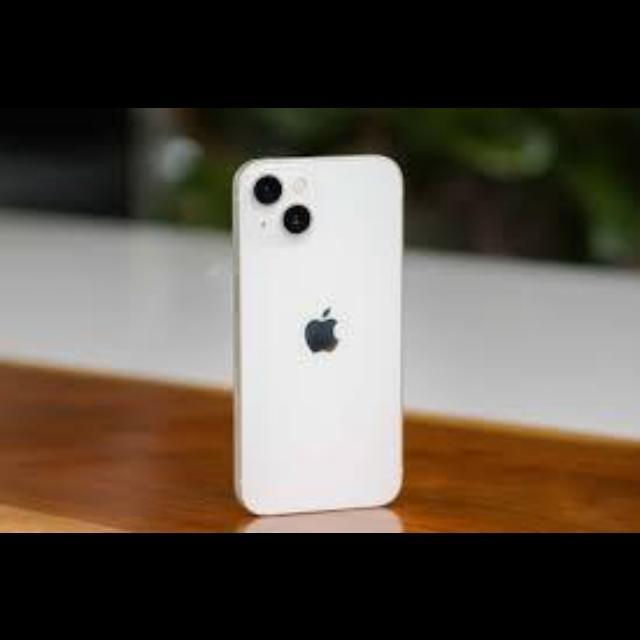Phone: (230, 153, 408, 513)
